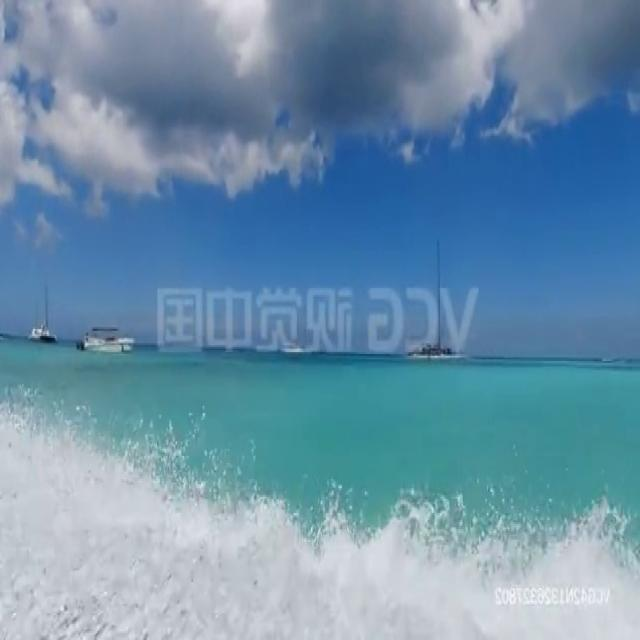houseboat: (75, 323, 138, 354)
sailboat: (407, 237, 465, 358), (28, 274, 58, 344)
